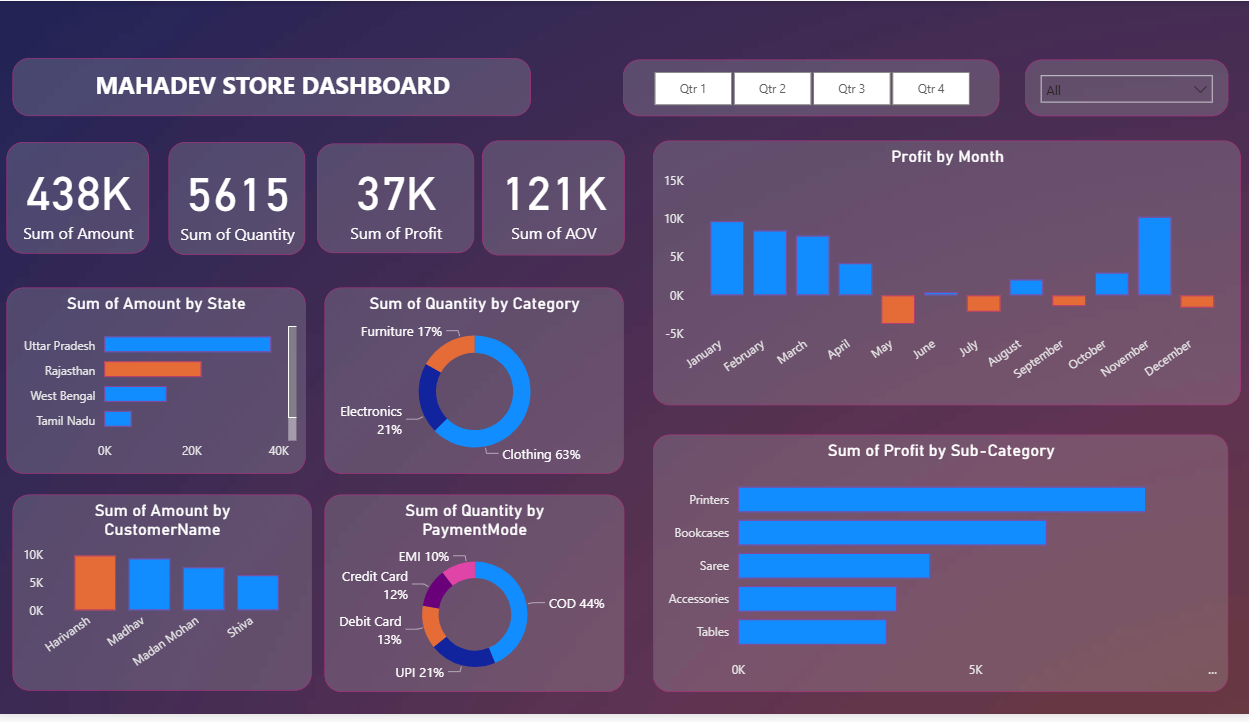

The page's visual inventory and layout, read from the dashboard file:
{"tool":"powerbi","page":{"name":"Page 1","canvas":[1280,720],"ordinal":0},"visuals":[{"type":"textbox","box":[22.1,57.1,523.6,59],"z":0},{"type":"columnChart","title":"Profit by Month","fields":{"Y":["Details.Profit","Details.Profit"],"Category":["Orders (1).Order Date.Variation.Date Hierarchy.Month"]},"box":[669.2,140.1,593.6,267.3],"z":1000},{"type":"barChart","fields":{"Category":["Details.Sub-Category"],"Y":["Details.Profit"]},"box":[669.2,436.9,580.7,259.9],"z":2000},{"type":"donutChart","fields":{"Category":["Details.Category"],"Y":["Details.Quantity"]},"box":[337.9,289.7,301.7,187.9],"z":3000},{"type":"donutChart","fields":{"Category":["Details.PaymentMode"],"Y":["Details.Quantity"]},"box":[337.4,497.7,302.3,199.1],"z":4000},{"type":"card","fields":{"Values":["Details.Amount"]},"box":[16.6,142,143.8,112.5],"z":5000},{"type":"card","fields":{"Values":["Details.Quantity"]},"box":[180.7,142,138.3,114.3],"z":6000},{"type":"card","fields":{"Values":["Details.Profit"]},"box":[330,143.8,158.5,110.6],"z":7000},{"type":"card","fields":{"Values":["Details.AOV"]},"box":[495.9,140.1,143.8,116.1],"z":8000},{"type":"barChart","fields":{"Category":["Orders (1).State"],"Y":["Details.Amount"]},"box":[17.2,289.7,301.7,187.9],"z":9000},{"type":"columnChart","fields":{"Category":["Orders (1).CustomerName"],"Y":["Details.Amount"]},"box":[22.4,498.3,301.7,198.3],"z":10000},{"type":"slicer","fields":{"Values":["Orders (1).Order Date.Variation.Date Hierarchy.Quarter"]},"box":[639.7,59,379.8,57.1],"z":11000},{"type":"slicer","fields":{"Values":["Orders (1).State"]},"box":[1045,58.9,205.2,57.3],"z":12000}]}

Visuals, with their boxes on the page's 1280x720 design canvas (x1, y1, x2, y2). These are canvas units, not pixel positions in the 1249x722 screenshot, which may show the page scaled, cropped or inside an application window:
textbox: bbox=[22, 57, 546, 116]
"Profit by Month" columnChart: bbox=[669, 140, 1263, 407]
barChart - Details.Sub-Category x Details.Profit: bbox=[669, 437, 1250, 697]
donutChart - Details.Category x Details.Quantity: bbox=[338, 290, 640, 478]
donutChart - Details.PaymentMode x Details.Quantity: bbox=[337, 498, 640, 697]
card - Details.Amount: bbox=[17, 142, 160, 254]
card - Details.Quantity: bbox=[181, 142, 319, 256]
card - Details.Profit: bbox=[330, 144, 488, 254]
card - Details.AOV: bbox=[496, 140, 640, 256]
barChart - Orders (1).State x Details.Amount: bbox=[17, 290, 319, 478]
columnChart - Orders (1).CustomerName x Details.Amount: bbox=[22, 498, 324, 697]
slicer - Orders (1).Order Date.Variation.Date Hierarchy.Quarter: bbox=[640, 59, 1020, 116]
slicer - Orders (1).State: bbox=[1045, 59, 1250, 116]
